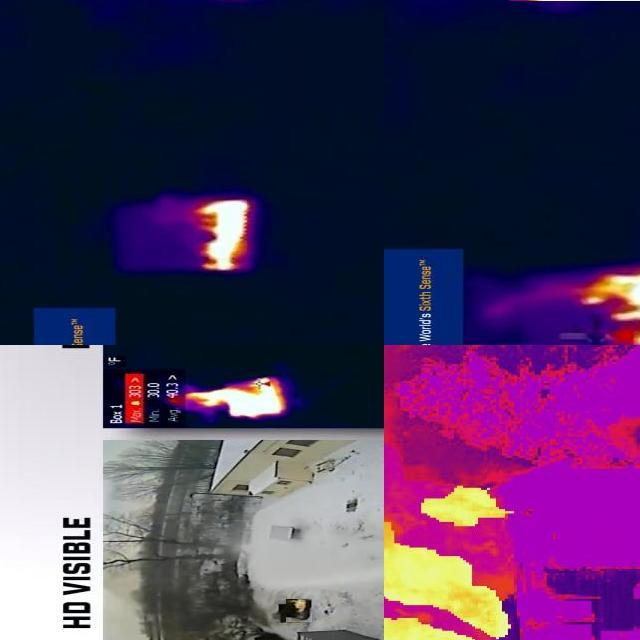fire: (385, 483, 520, 638), (571, 265, 640, 346), (185, 375, 287, 420), (194, 198, 254, 272)
